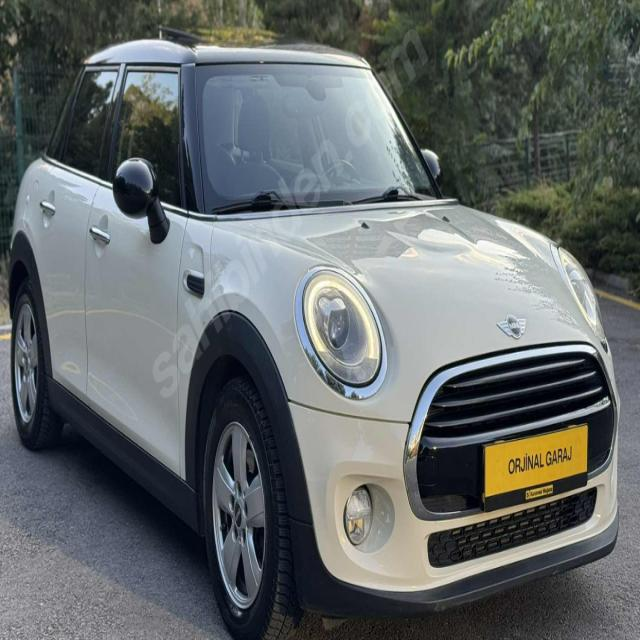mini: (495, 309, 530, 344)
